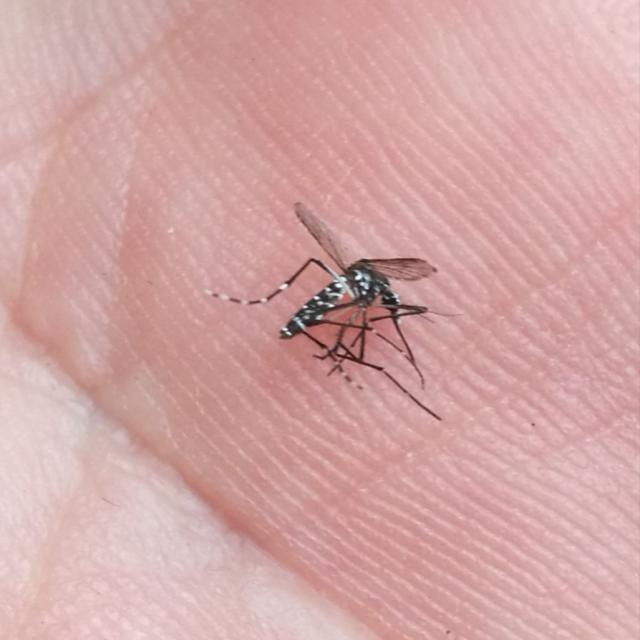albopictus: (200, 194, 460, 430)
